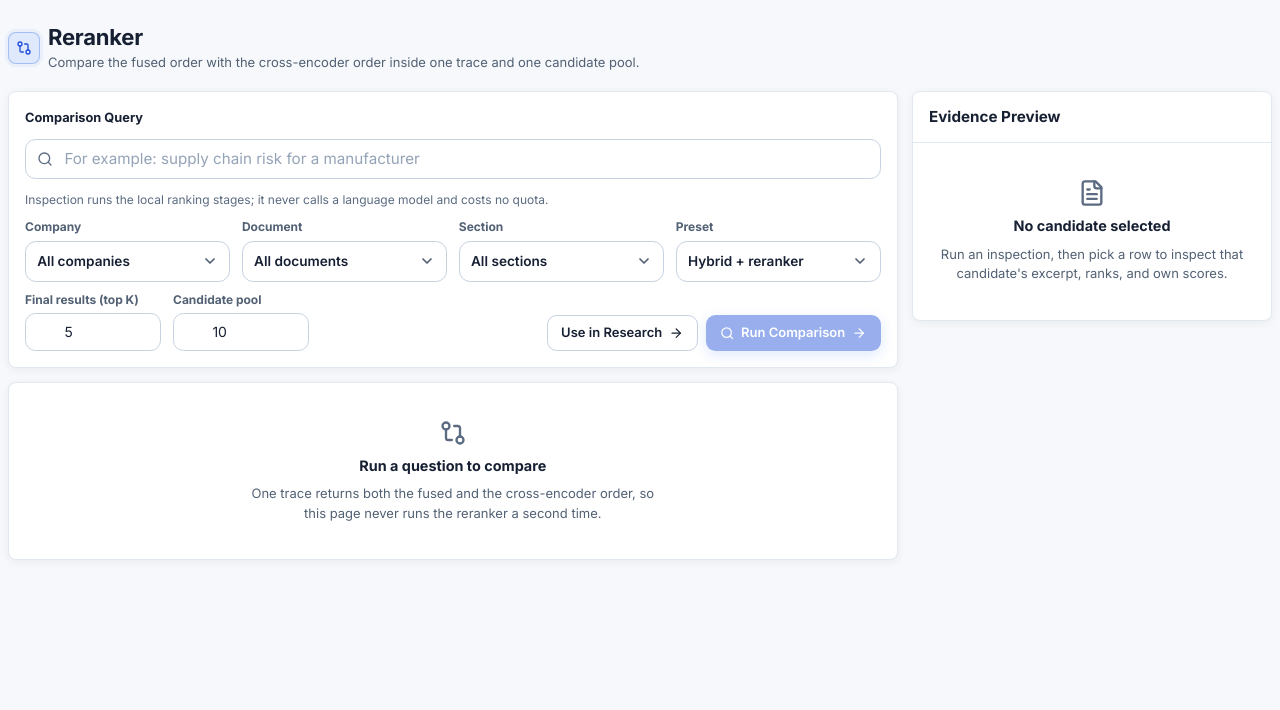
Scenario: RerankerPanel › keeps a negative reranker logit negative and never invents a score
This screenshot has width=1280, height=710.
In the field labelled "Comparison Query": (453, 159) [25, 139, 881, 179], type "supply chain risk"
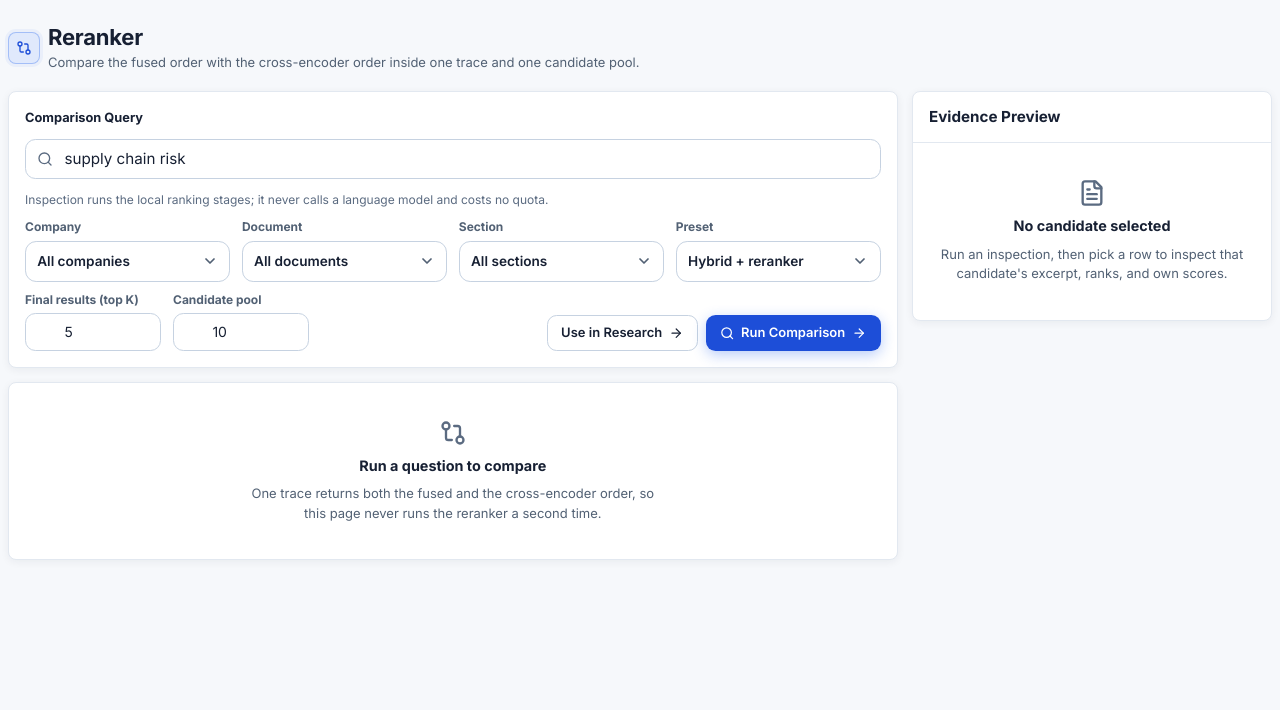
Submit the form labelled "Comparison Query", box [25, 108, 881, 351]
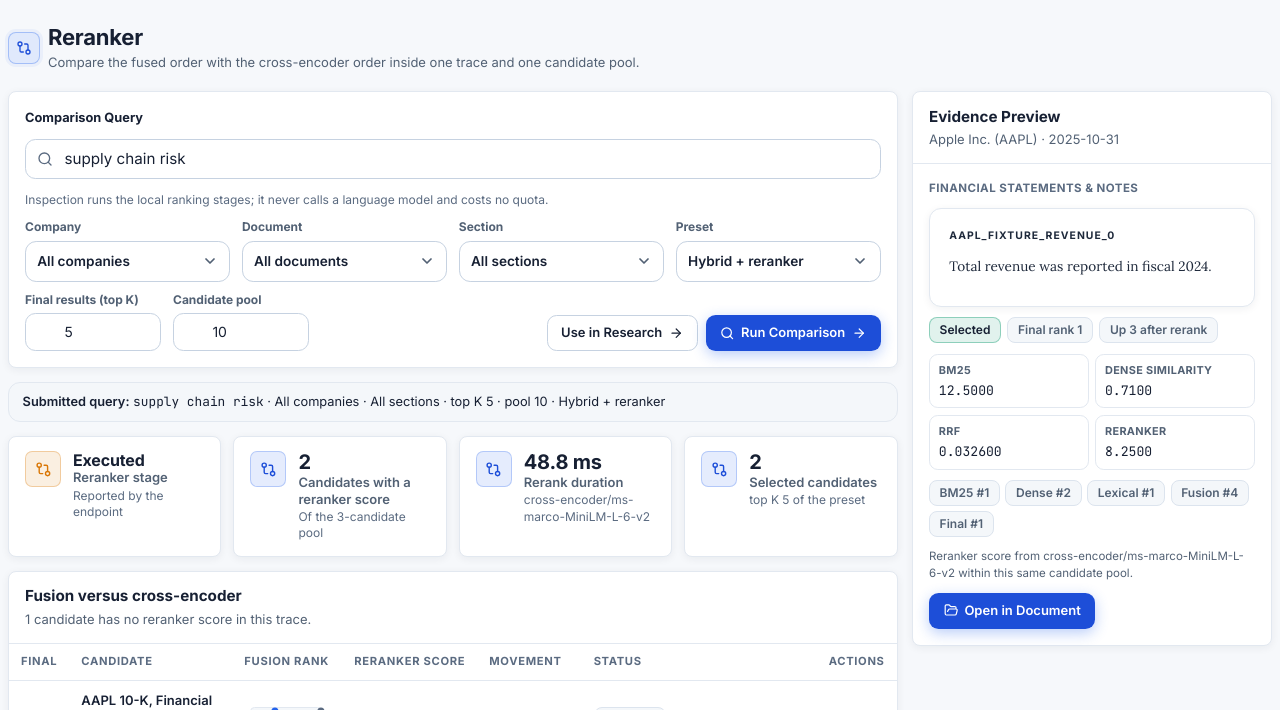
Check: the text "1 candidate has no reranker score in this trace." is shown, box [25, 610, 311, 629]
